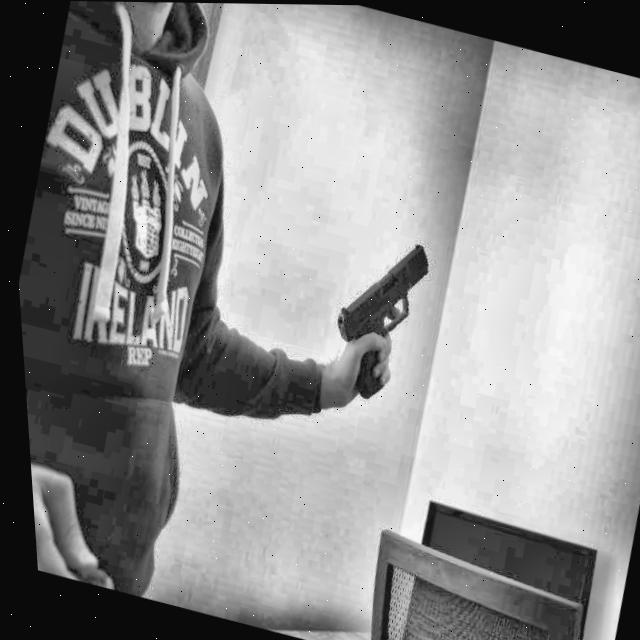pistol: (301, 229, 440, 415)
